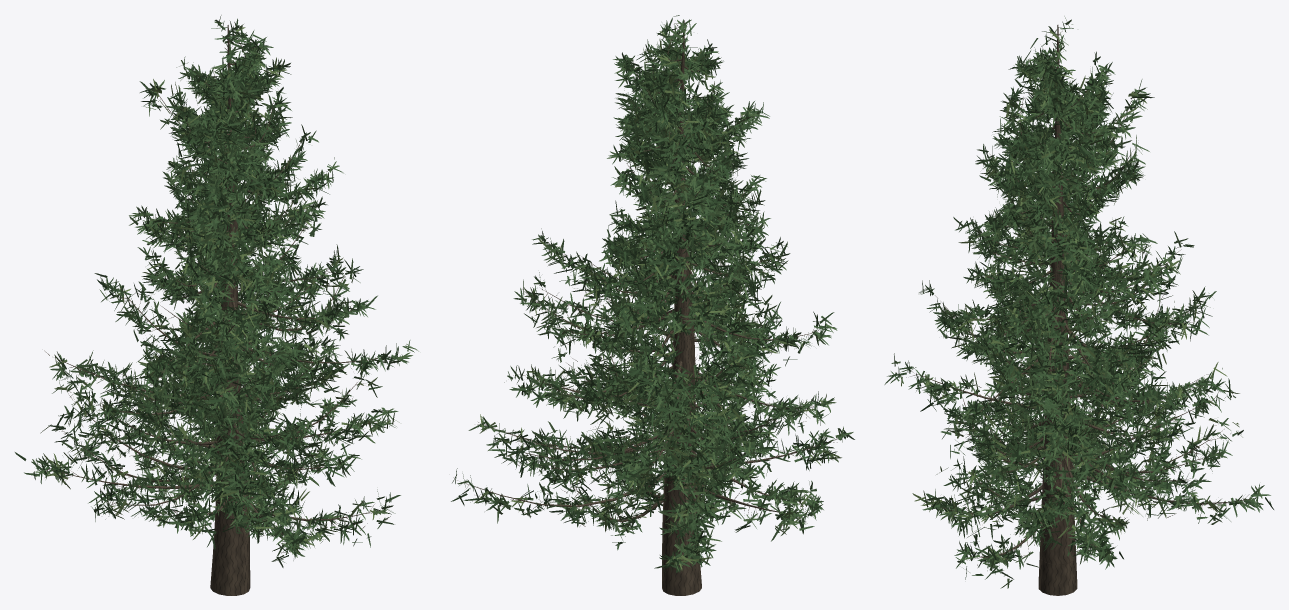
Rendered from fir_far.glb.
3 renders of one model, left to right at view 1: azimuth 30°, elevation 25°; view 2: azimuth 150°, elevation 25°; view 3: azimuth 270°, elevation 25°, orthographic.
Visible parts, largest first — view 1: BranchingFir218.003, BranchingFir218.004, BranchingFir218.002, BranchingFir218.001, BranchingFir218; view 2: BranchingFir218.003, BranchingFir218.004, BranchingFir218.002, BranchingFir218.001, BranchingFir218; view 3: BranchingFir218.003, BranchingFir218.002, BranchingFir218.004, BranchingFir218.001, BranchingFir218.
Boxes of the visible parts, <box> form: BranchingFir218.003: <box>24,21,414,567</box>; BranchingFir218.004: <box>32,15,418,561</box>; BranchingFir218.002: <box>15,18,400,559</box>; BranchingFir218.001: <box>38,25,396,595</box>; BranchingFir218: <box>40,25,399,553</box>; BranchingFir218.003: <box>452,17,849,572</box>; BranchingFir218.004: <box>457,19,853,571</box>; BranchingFir218.002: <box>451,15,854,571</box>; BranchingFir218.001: <box>453,20,848,595</box>; BranchingFir218: <box>474,23,841,570</box>; BranchingFir218.003: <box>890,21,1270,579</box>; BranchingFir218.002: <box>884,35,1273,579</box>; BranchingFir218.004: <box>891,16,1262,588</box>; BranchingFir218.001: <box>895,25,1253,595</box>; BranchingFir218: <box>901,29,1242,561</box>.
Size of the model in its own units: 5.92 by 9.11 by 5.68.
Materials: 5 (1 with a texture image).
